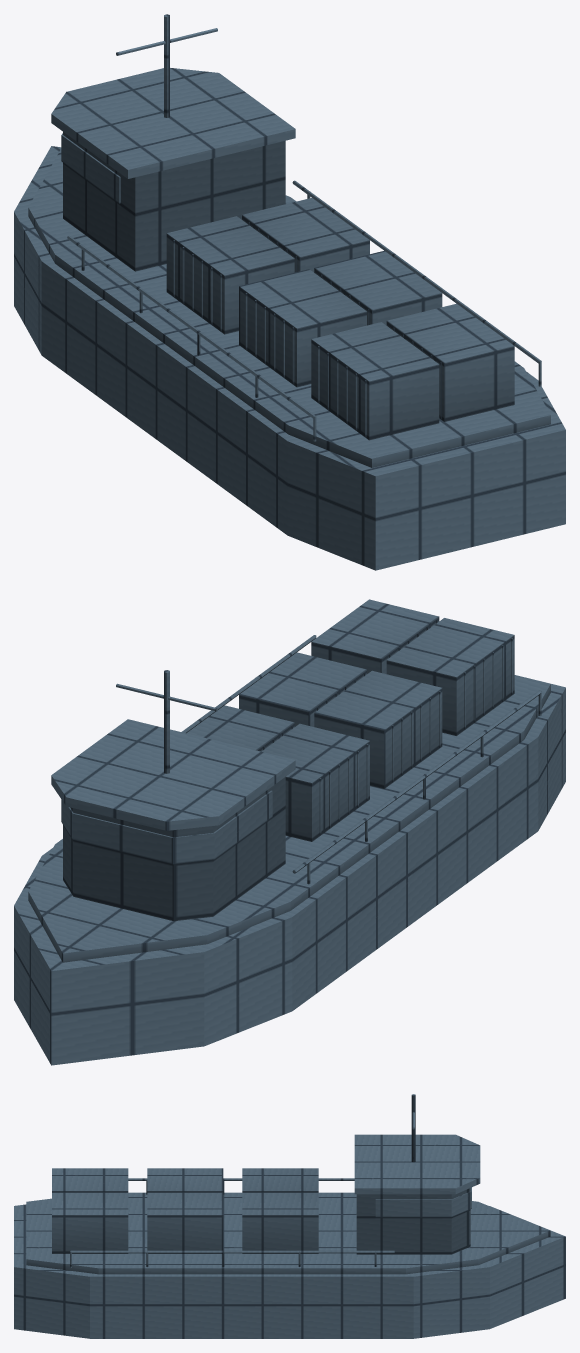
Rendered from cargo-ferry.glb.
3 renders of one model, top to bottom at view 1: azimuth 30°, elevation 25°; view 2: azimuth 150°, elevation 25°; view 3: azimuth 270°, elevation 25°, orthographic. The views are drawn at different scales.
Parts seen in each view (by area): view 1: Curved chine hull, Raised upper deck, Bridge overhang, Recessed bridge, Cargo container, Cargo container.002, Cargo container.001, Cargo container.003, Cargo container.004, Cargo container.005, Bridge glazing, Deck rail (+1 smaller); view 2: Curved chine hull, Raised upper deck, Bridge overhang, Recessed bridge, Cargo container.001, Cargo container, Cargo container.002, Bridge glazing, Cargo container.003, Cargo container.004, Cargo container.005, Deck rail (+2 smaller); view 3: Curved chine hull, Raised upper deck, Bridge overhang, Recessed bridge, Cargo container.003, Cargo container.005, Cargo container.004, Cargo container, Cargo container.001, Cargo container.002, Bridge glazing, Deck rail.001.
Boxes of the visible parts, x1,y1,x2,y2 form: Curved chine hull: (14, 146, 565, 570); Raised upper deck: (28, 148, 550, 467); Bridge overhang: (51, 68, 295, 178); Recessed bridge: (63, 132, 285, 271); Cargo container: (311, 322, 439, 440); Cargo container.002: (166, 216, 294, 334); Cargo container.001: (239, 269, 366, 387); Cargo container.003: (386, 303, 514, 421); Cargo container.004: (314, 251, 442, 325); Cargo container.005: (242, 198, 369, 272); Bridge glazing: (61, 133, 120, 203); Deck rail: (67, 235, 315, 418); Curved chine hull: (14, 684, 565, 1065); Raised upper deck: (28, 675, 550, 962); Bridge overhang: (51, 719, 295, 830); Recessed bridge: (63, 777, 285, 921); Cargo container.001: (314, 670, 442, 788); Cargo container: (386, 618, 514, 735); Cargo container.002: (262, 723, 369, 841); Bridge glazing: (61, 790, 272, 864); Cargo container.003: (311, 599, 439, 673); Cargo container.004: (239, 652, 366, 726); Cargo container.005: (186, 705, 294, 751); Deck rail: (292, 690, 541, 873); Curved chine hull: (14, 1204, 565, 1338); Raised upper deck: (26, 1192, 550, 1274); Bridge overhang: (354, 1134, 480, 1194); Recessed bridge: (356, 1188, 470, 1254); Cargo container.003: (52, 1192, 128, 1253); Cargo container.005: (242, 1192, 318, 1253); Cargo container.004: (147, 1192, 223, 1253); Cargo container: (52, 1168, 128, 1192); Cargo container.001: (147, 1168, 223, 1192); Cargo container.002: (242, 1168, 318, 1192); Bridge glazing: (375, 1187, 471, 1217); Deck rail.001: (71, 1250, 394, 1253).
Size of the model in its own units: 10 by 11.8 by 29.
Materials: 4 (4 with a texture image).
